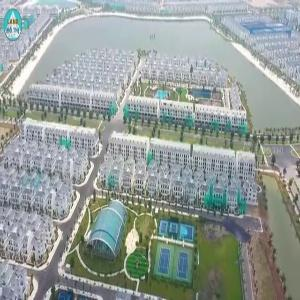drone: (185, 191, 276, 282)
